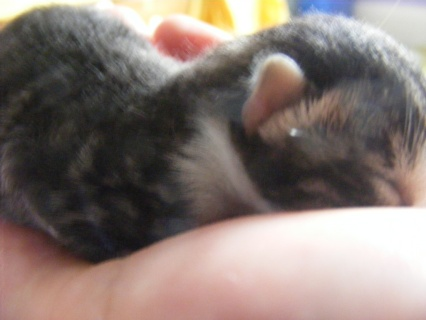Cat: (0, 1, 426, 263)
